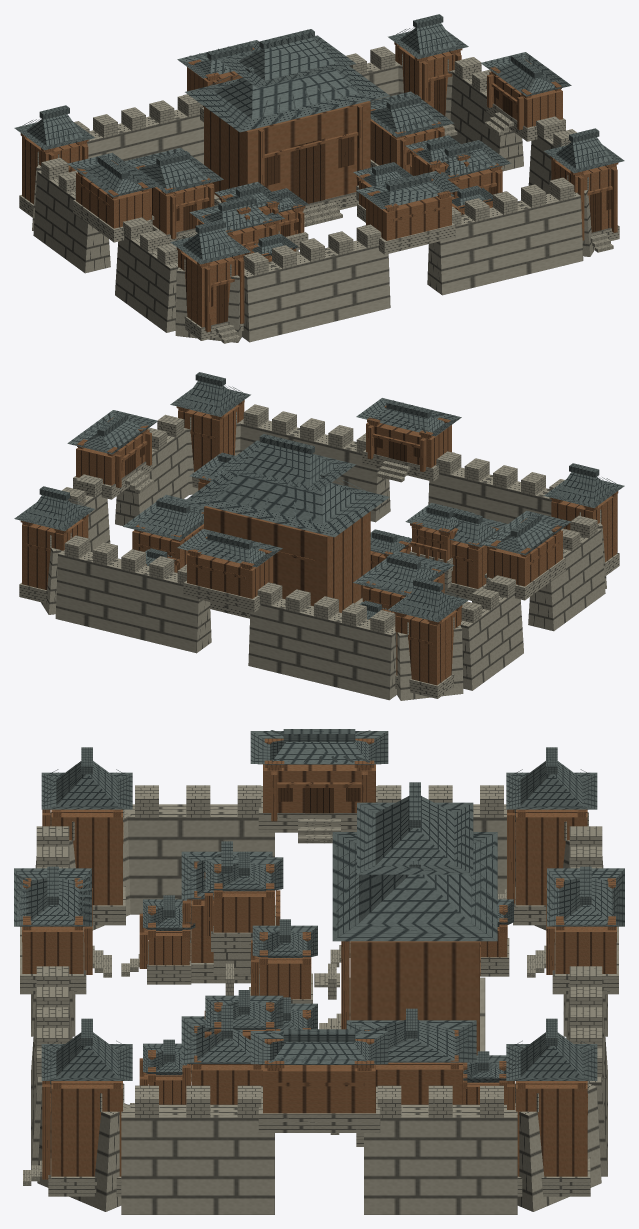
File: city0-lod0.glb
The picture shows the model from 3 angles, top to bottom: view 1: azimuth 30°, elevation 25°; view 2: azimuth 150°, elevation 25°; view 3: azimuth 270°, elevation 25°; orthographic projection. The views are drawn at different scales.
Size of the model in its own units: 2.31 by 0.821 by 1.79.
1 material, 1 textured.
